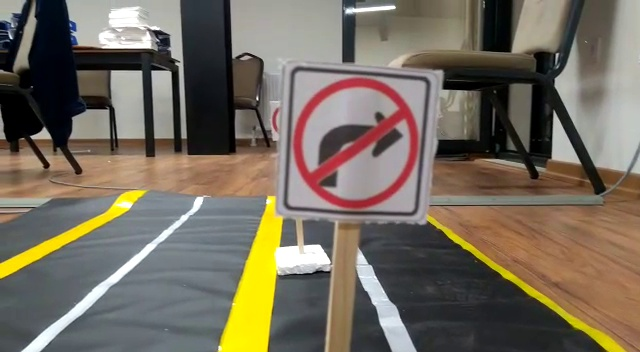saga_donulmez: (292, 73, 423, 215)
